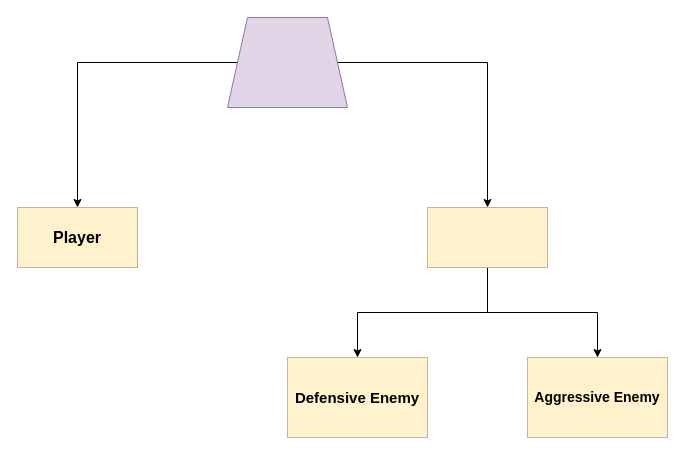
Some shapes in this 685 by 455 pixel diagram are drawn without their labels. Each missing label, with the centre of its shape:
"Enemy" goes at point 487,237.
"Entity" goes at point 287,62.
